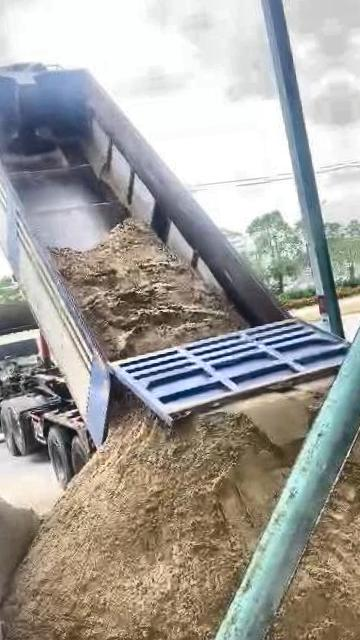sand: (4, 389, 318, 640), (52, 219, 246, 359), (238, 454, 360, 640), (0, 489, 39, 603), (352, 416, 360, 472)
